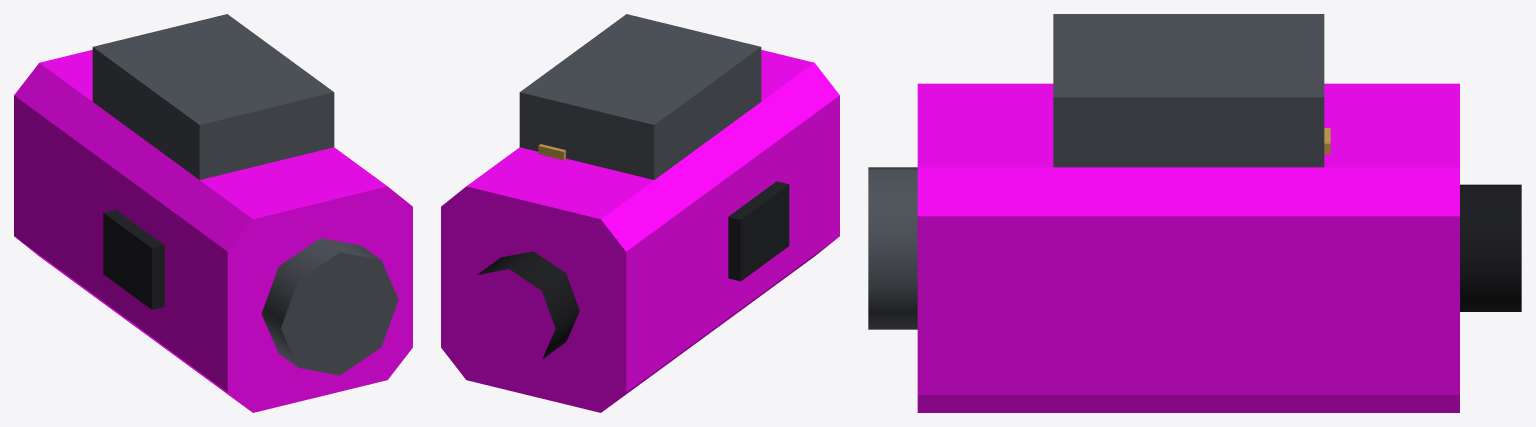
The model's file is att_laser.glb.
The picture shows the model from 3 angles, left to right: view 1: azimuth 30°, elevation 25°; view 2: azimuth 150°, elevation 25°; view 3: azimuth 270°, elevation 25°; orthographic projection. The views are drawn at different scales.
Visible parts, largest first — view 1: att_laser__body; view 2: att_laser__body; view 3: att_laser__body.
Part boxes in pixels (bbox=[...]): att_laser__body: bbox=[14, 14, 412, 412]; att_laser__body: bbox=[441, 14, 839, 412]; att_laser__body: bbox=[868, 14, 1521, 412].
Bounding box in the file's own units: 0.0235 × 0.0283 × 0.053.
Materials: 1 (1 with a texture image).
